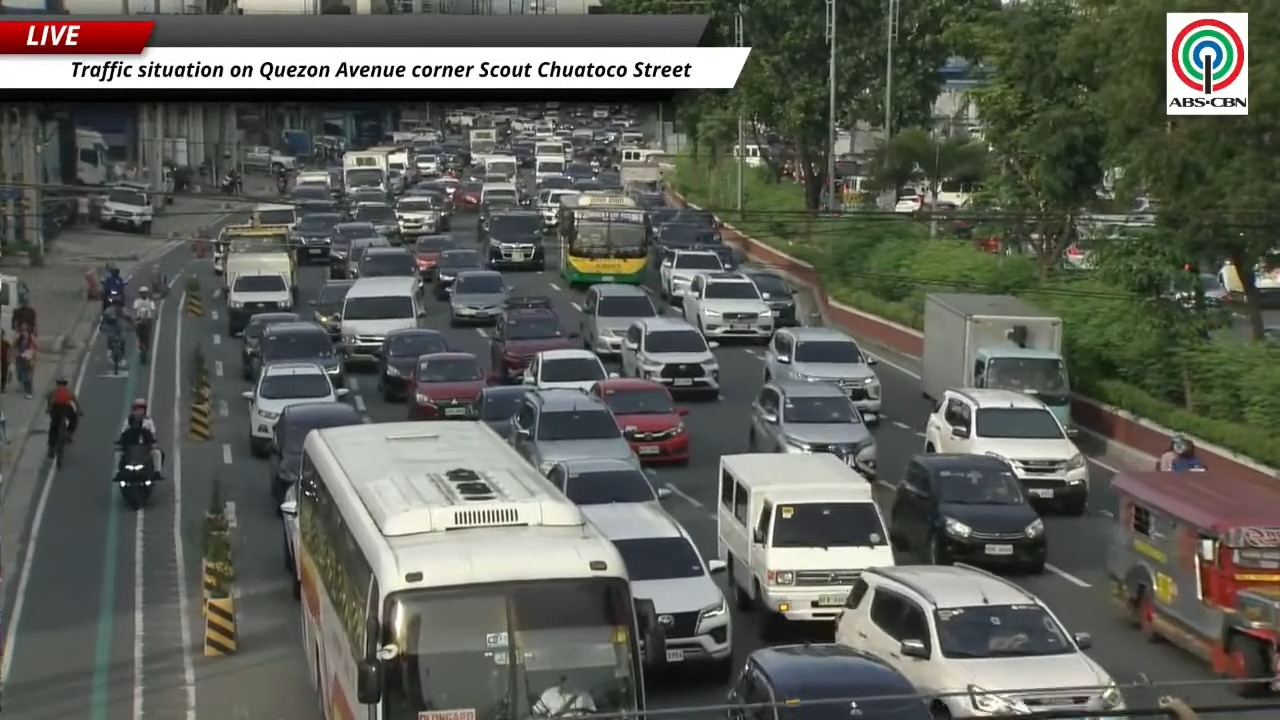bus: (291, 421, 664, 719), (558, 191, 650, 286)
car: (835, 565, 1124, 717), (580, 503, 733, 680), (924, 388, 1088, 514), (889, 454, 1047, 573), (727, 643, 946, 719), (748, 382, 875, 479), (764, 327, 881, 424), (510, 389, 639, 473), (242, 362, 347, 457), (270, 402, 362, 505), (590, 378, 689, 463), (620, 317, 719, 395), (490, 307, 578, 383), (684, 273, 773, 342), (250, 321, 344, 386), (547, 459, 672, 505), (580, 283, 659, 354), (408, 352, 488, 419), (377, 328, 449, 401), (241, 312, 301, 381), (481, 209, 545, 269), (523, 348, 612, 391), (740, 268, 799, 327), (469, 385, 533, 439), (659, 250, 723, 304), (448, 270, 509, 326), (433, 248, 485, 301), (291, 212, 342, 264), (310, 280, 353, 341), (330, 222, 376, 278), (279, 485, 301, 600), (653, 222, 716, 257), (536, 178, 579, 227), (342, 236, 390, 279), (394, 195, 443, 236), (413, 234, 456, 279), (356, 247, 418, 277), (352, 202, 399, 237), (453, 180, 481, 209), (504, 294, 553, 310)
motorcycle: (114, 445, 157, 510), (1167, 455, 1206, 471), (1171, 456, 1205, 471), (221, 173, 241, 194)
truck: (920, 293, 1075, 433), (215, 223, 297, 296), (619, 148, 673, 191), (74, 127, 114, 185), (344, 147, 395, 192), (469, 128, 496, 155)
